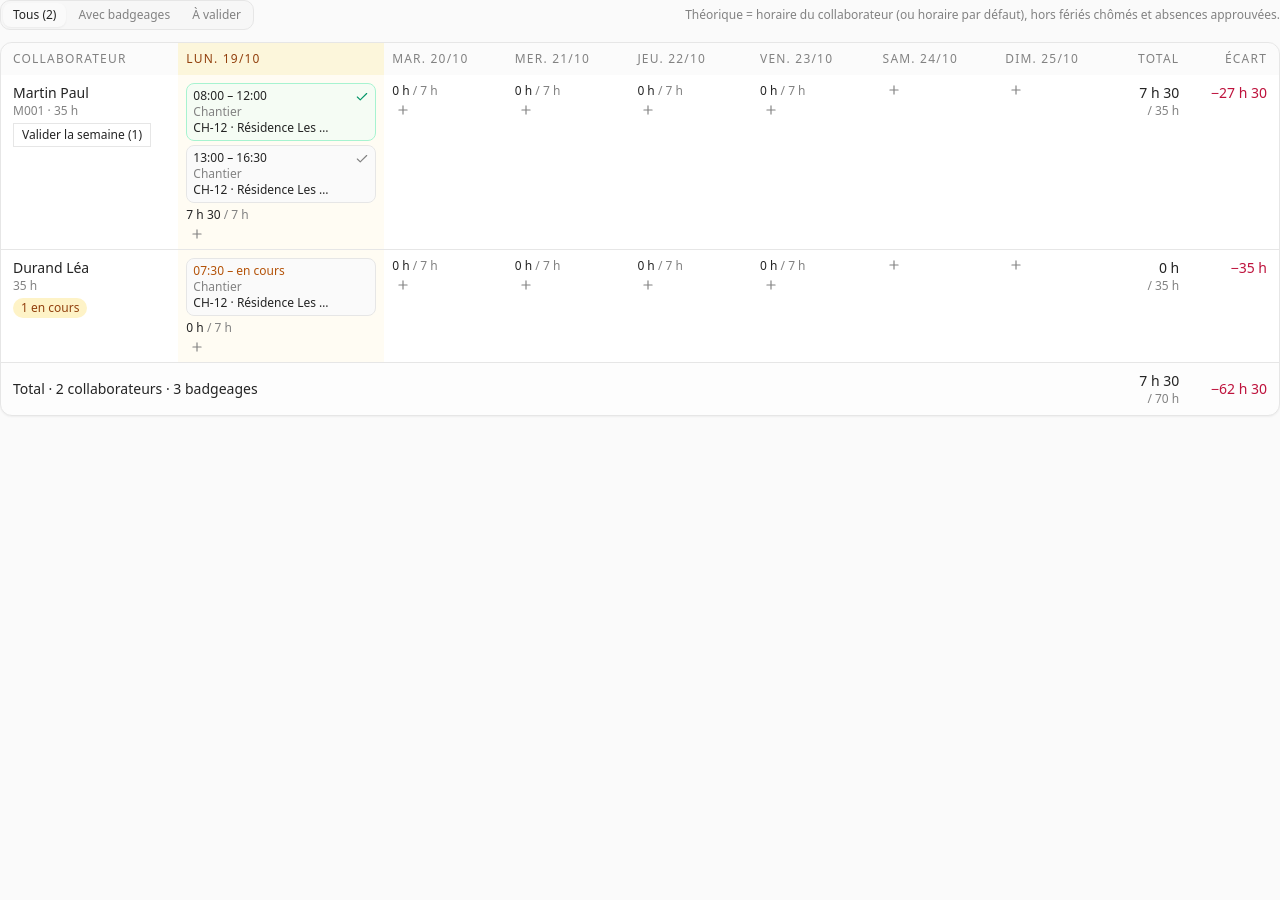
it: FeuilleTempsTable › ouvre la saisie d’un badgeage pré-rempli
The image size is (1280, 900).
Click the button named "Ajouter un badgeage pour Paul Martin le mar. 20/10". click: click(403, 110)
box: [392,103,414,117]
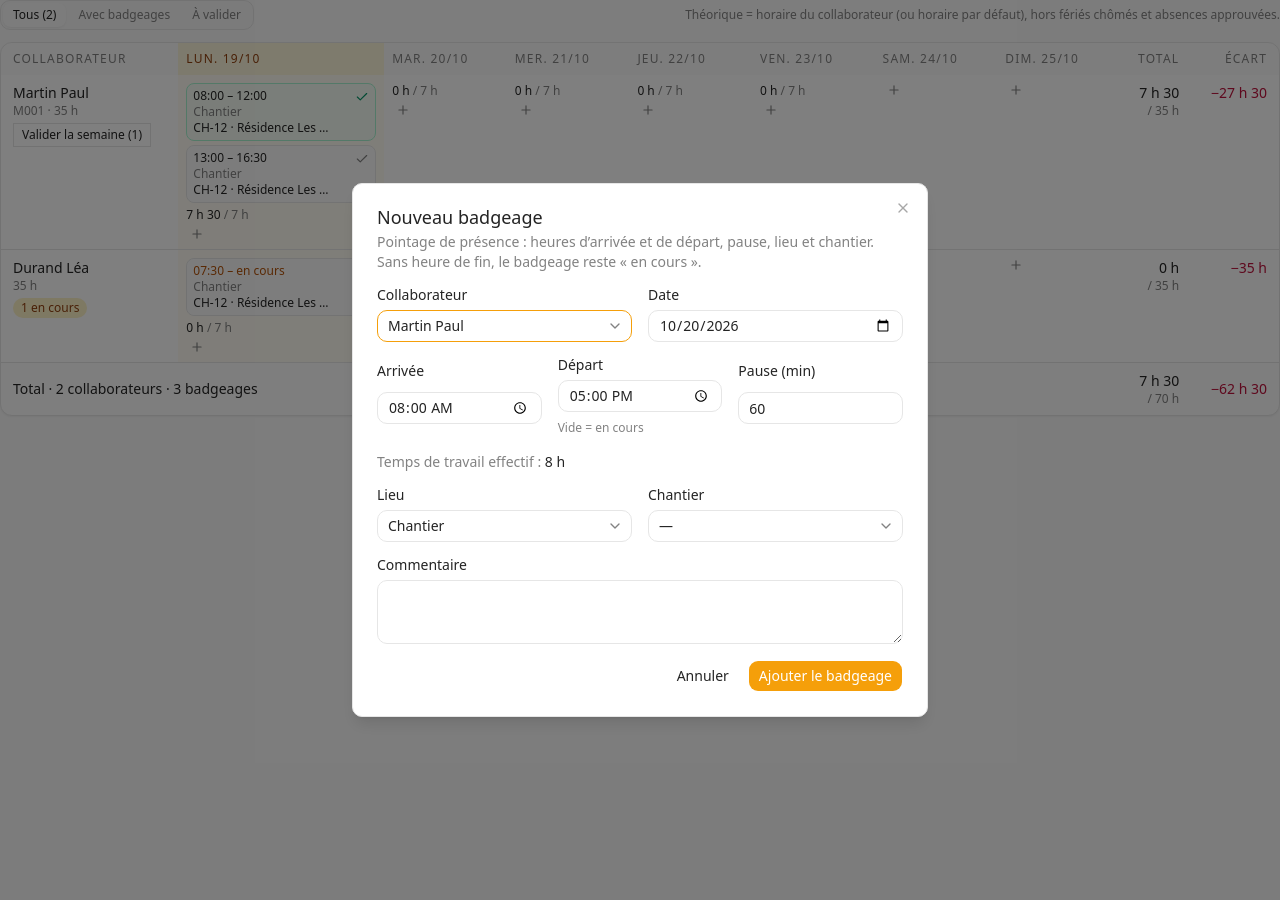
Result: the heading "Nouveau badgeage" is shown at [377,205,543,229]
Result: the date field labelled "Date" holds "2026-10-20" at [648,310,903,342]
